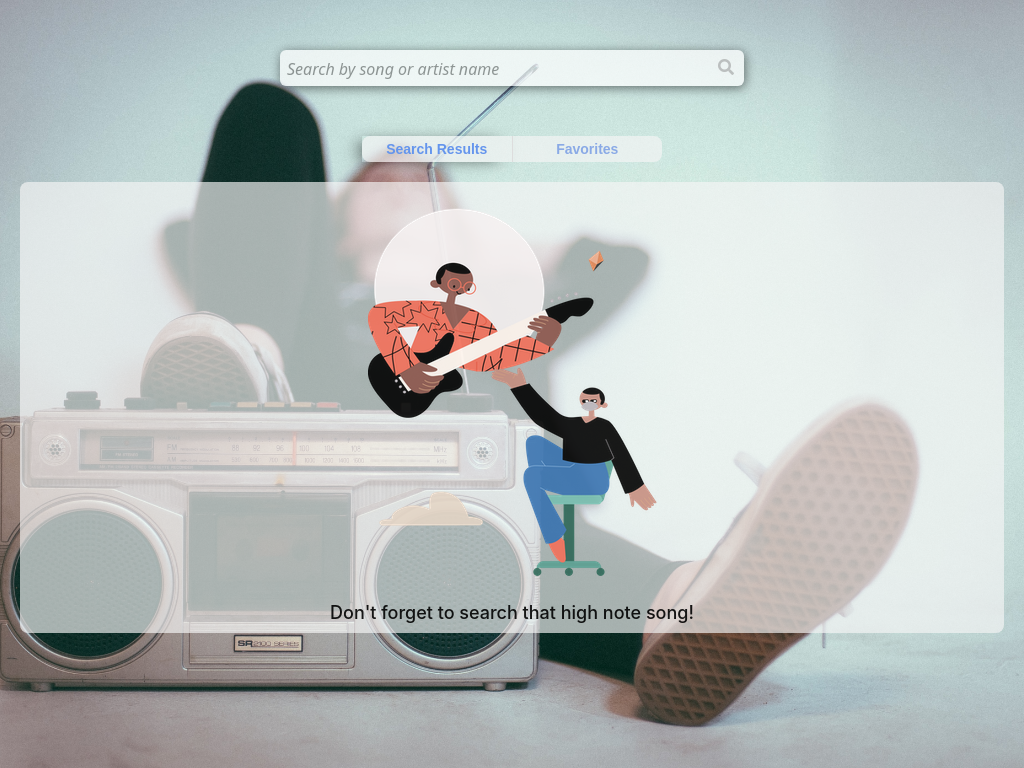
Test: LYRIC APP CONTAINER › should go to previous page when next navigation button is clicked
Type "arijit" into the field with placeholder "Search by song or artist name" at coordinates (512, 68), box [280,50,744,86]
Then press Enter
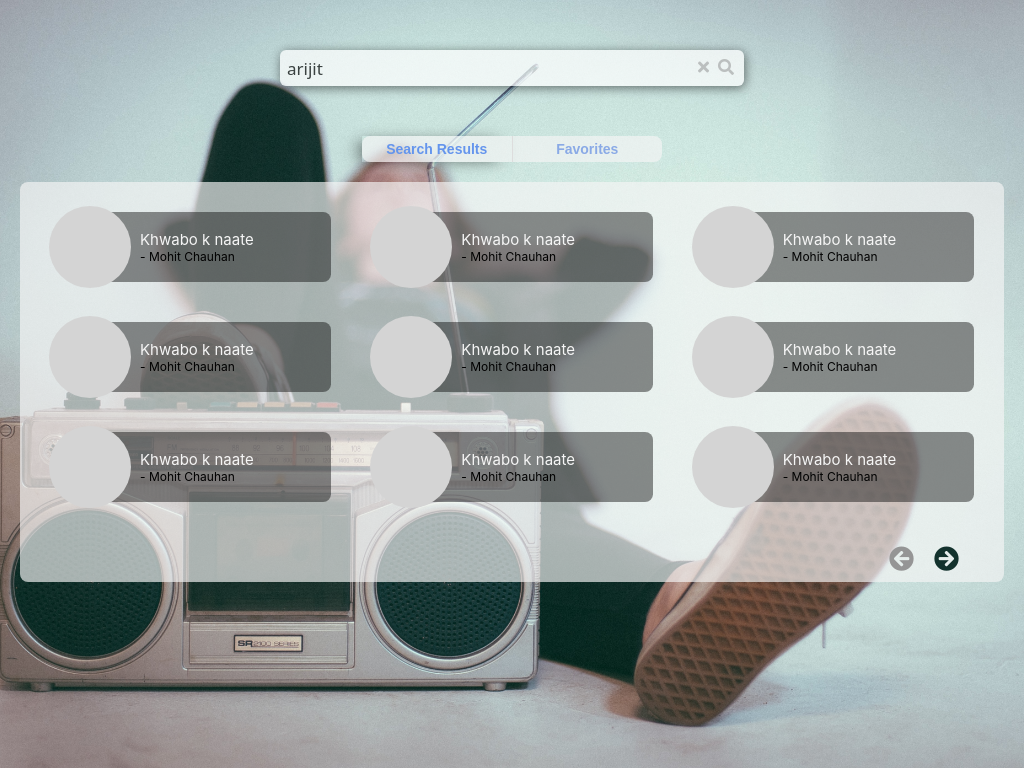
Click the icon with test id "nextBtn" at coordinates (946, 558), box [934,546,959,571]
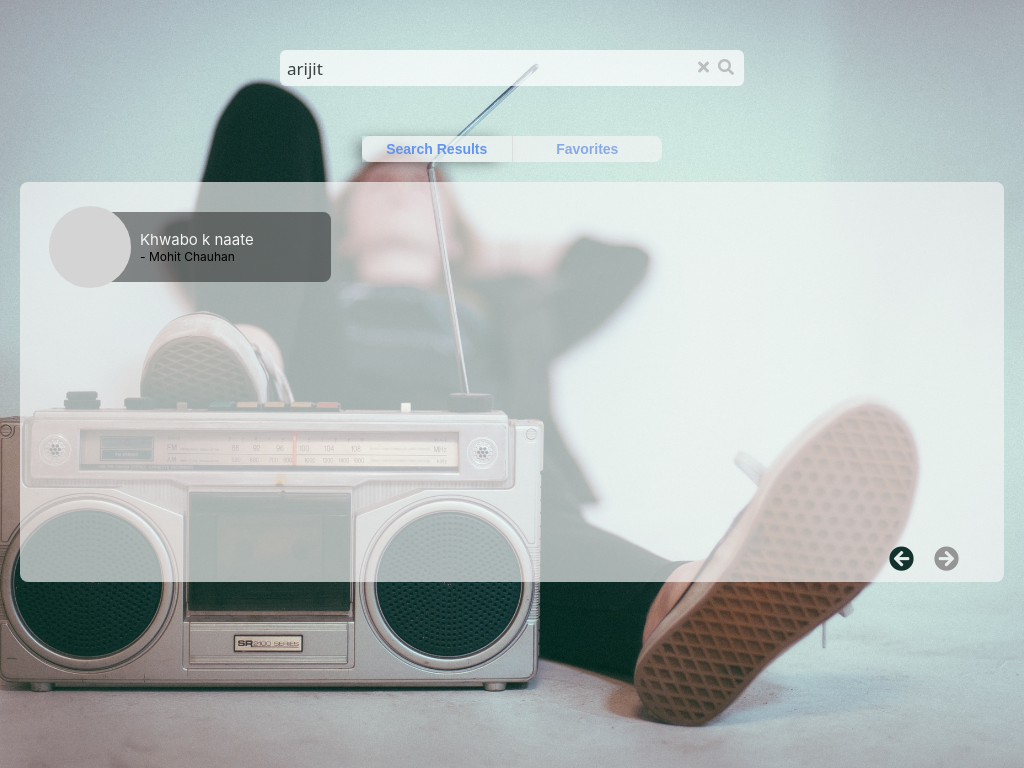
Click the icon with test id "prevBtn" at coordinates (902, 558), box [889,546,914,571]
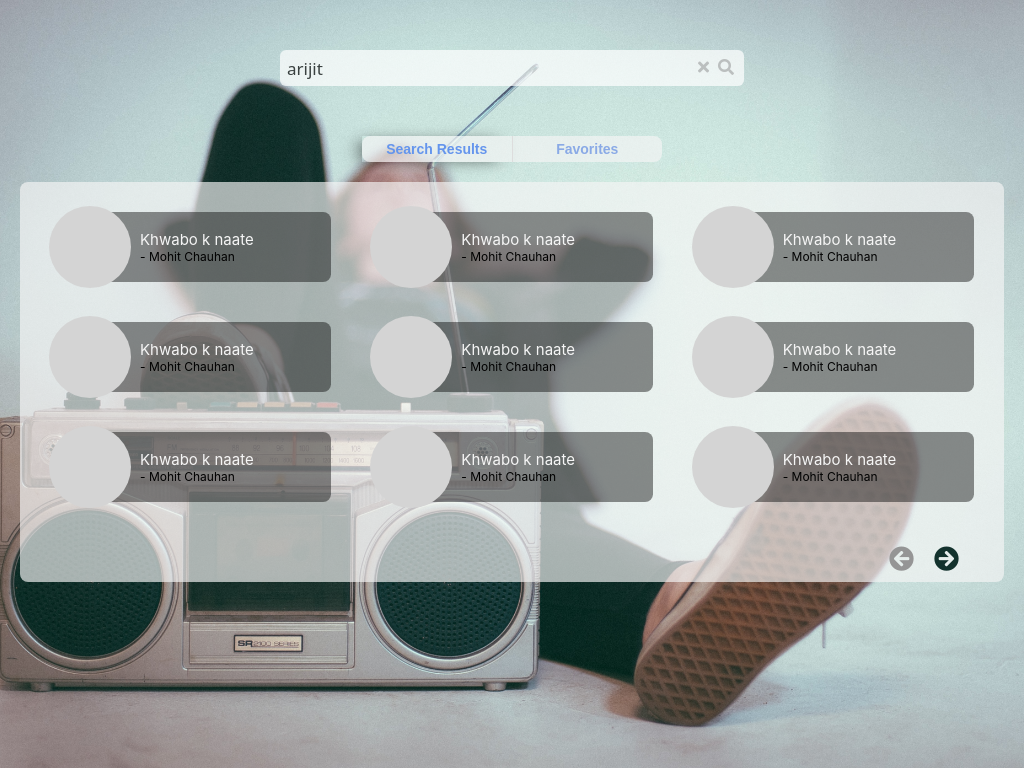
Result: the text "Khwabo k naate" is shown 9 times
